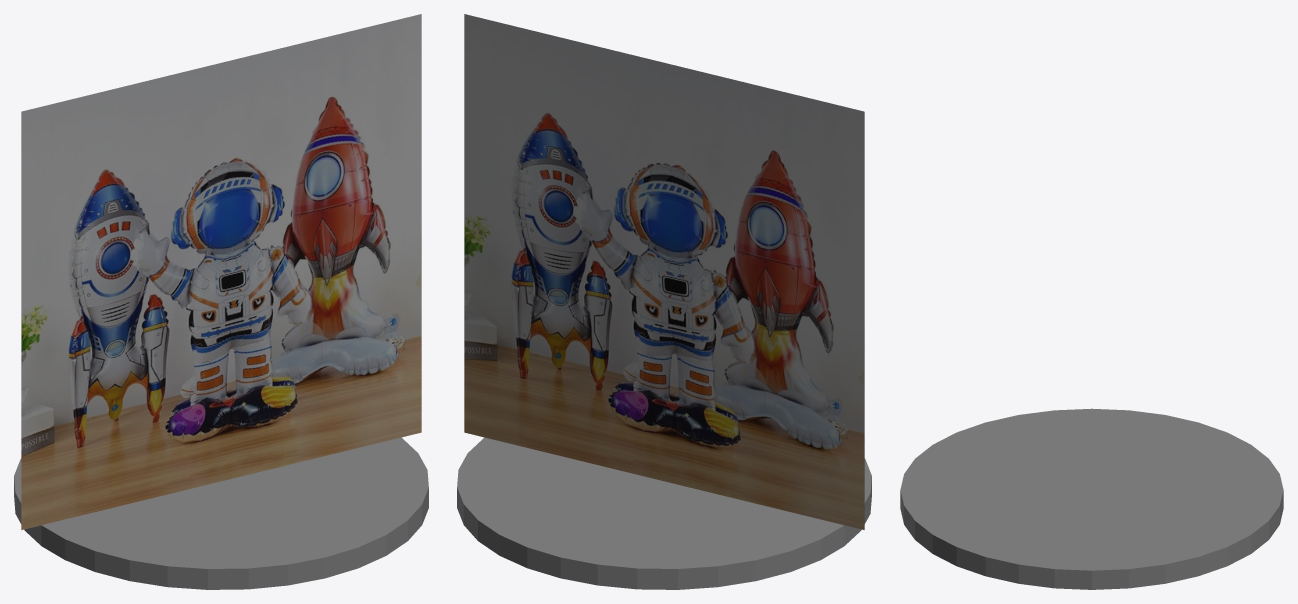
File: B0D5Z4NMJR.glb
3 views of the same model, side by side, from view 1: azimuth 30°, elevation 25°; view 2: azimuth 150°, elevation 25°; view 3: azimuth 270°, elevation 25° (orthographic). The views are drawn at different scales.
Visible parts, largest first — view 1: photo, base; view 2: photo, base; view 3: base.
Boxes of the visible parts, x1,y1,x2,y2 form: photo: (21,14,421,529); base: (14,437,428,589); photo: (464,14,864,529); base: (457,437,871,589); base: (900,408,1283,589).
Bounding box in the file's own units: 0.4 × 0.42 × 0.36.
1 material, 1 textured.
